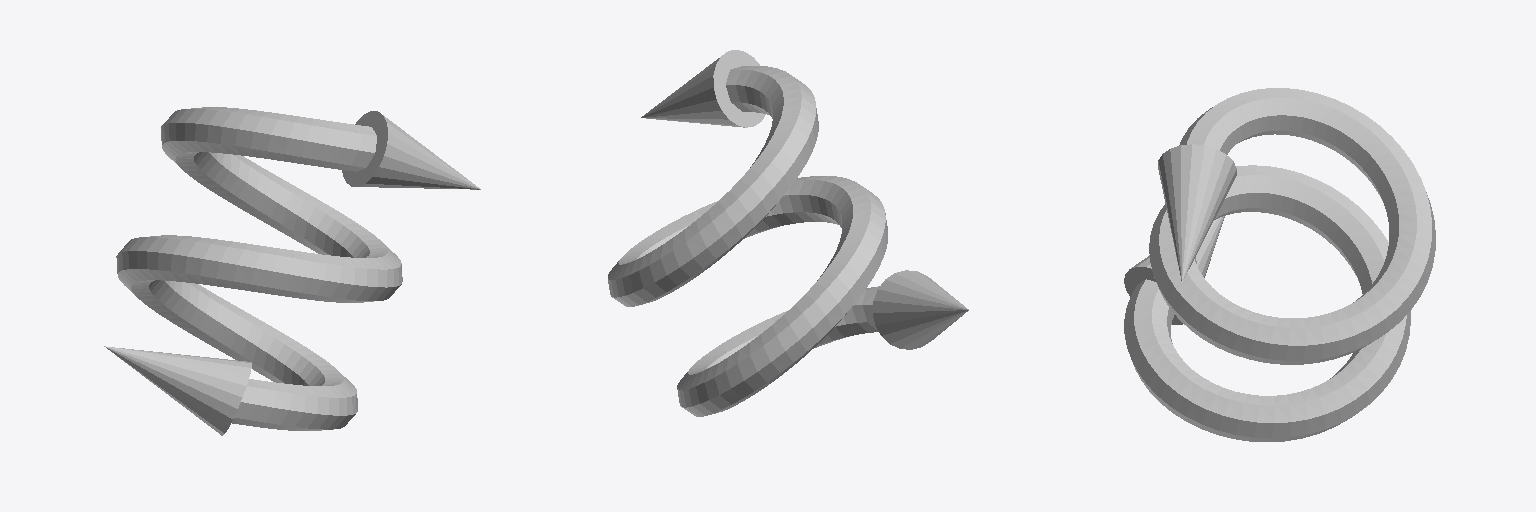
Rendered from Malus_inverse.obj.
3 views of the same model, side by side, from view 1: azimuth 30°, elevation 25°; view 2: azimuth 150°, elevation 25°; view 3: azimuth 270°, elevation 25° (orthographic).
Parts seen in each view (by area): view 1: polySurface7; view 2: polySurface7; view 3: polySurface7.
Boxes of the visible parts, <box> form: polySurface7: <box>104,107,480,435</box>; polySurface7: <box>608,50,968,416</box>; polySurface7: <box>1124,88,1435,441</box>.
Bounding box in the file's own units: 0.3826 × 0.3239 × 0.2927.